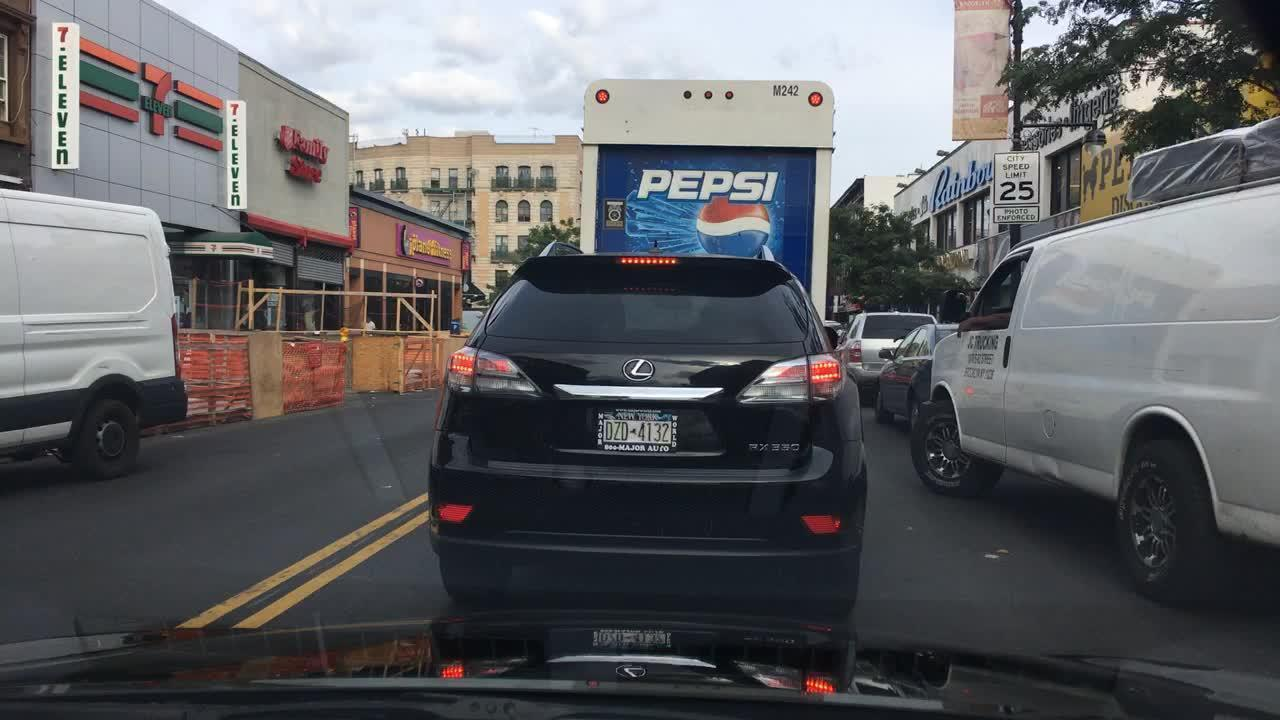lexus: (615, 350, 661, 396)
